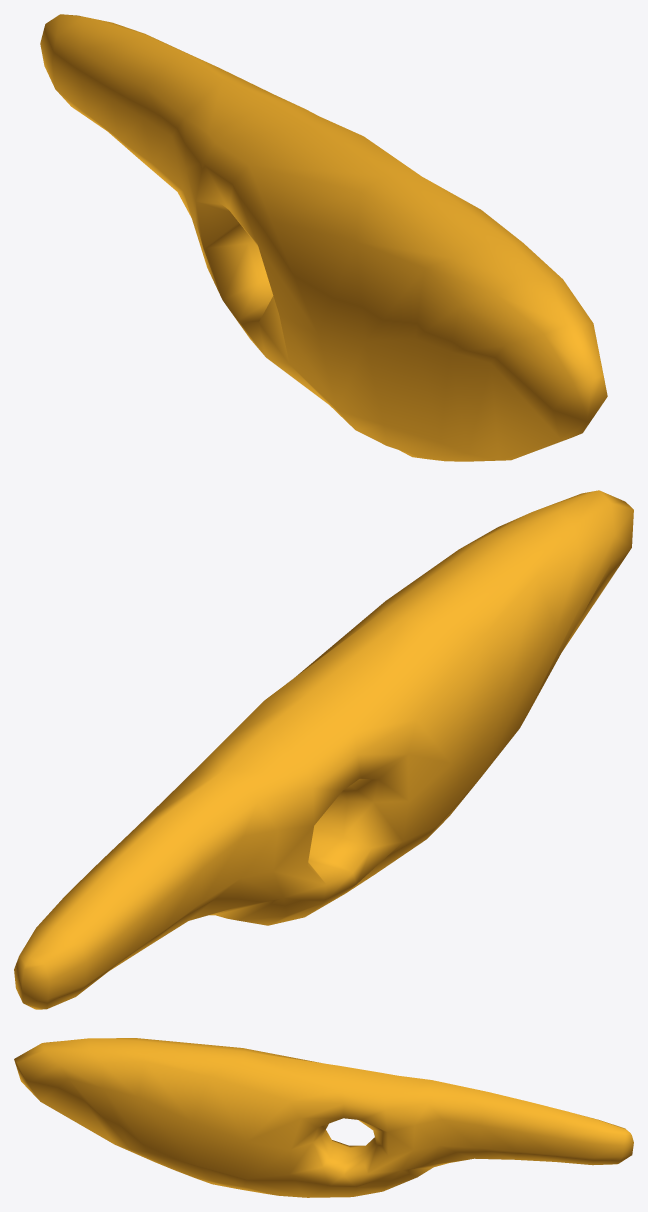
File: coutal.fbx
3 views of the same model, one above another, from view 1: azimuth 30°, elevation 25°; view 2: azimuth 150°, elevation 25°; view 3: azimuth 270°, elevation 25° (orthographic). The views are drawn at different scales.
Parts seen in each view (by area): view 1: Plane; view 2: Plane; view 3: Plane.
Part boxes in pixels (left/top/right/bottom): Plane: left=40, top=14, right=607, bottom=461; Plane: left=14, top=490, right=633, bottom=1009; Plane: left=14, top=1038, right=633, bottom=1197.
Bounding box in the file's own units: 3.5 × 5.95 × 22.61.
